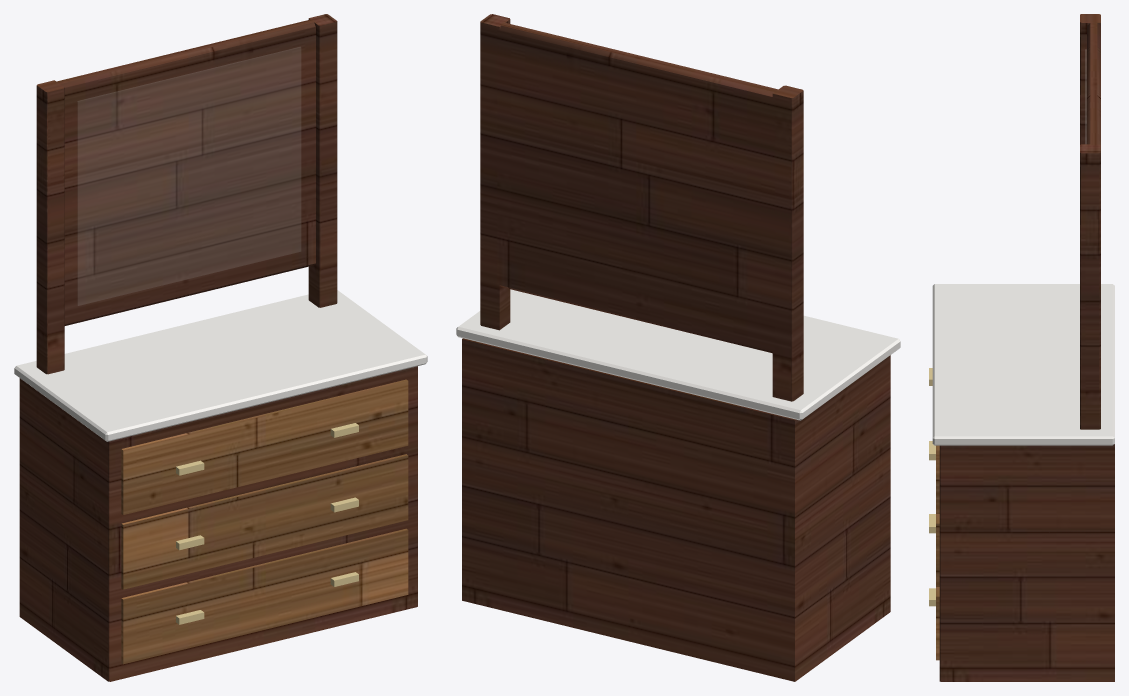
File: dresser.glb
3 renders of one model, left to right at view 1: azimuth 30°, elevation 25°; view 2: azimuth 150°, elevation 25°; view 3: azimuth 270°, elevation 25°, orthographic. The views are drawn at different scales.
Parts seen in each view (by area): view 1: dresser_dkwood, dresser_oak, dresser_glass, dresser_marble_w, dresser_brass; view 2: dresser_dkwood, dresser_marble_w; view 3: dresser_dkwood, dresser_marble_w, dresser_oak, dresser_brass.
Boxes of the visible parts, box(x1,y1,x2,y2) form: dresser_dkwood: box(19, 14, 417, 681); dresser_oak: box(121, 379, 408, 664); dresser_glass: box(78, 47, 300, 305); dresser_marble_w: box(14, 290, 427, 441); dresser_brass: box(176, 423, 358, 624); dresser_dkwood: box(462, 14, 890, 681); dresser_marble_w: box(456, 289, 900, 420); dresser_dkwood: box(939, 14, 1114, 681); dresser_marble_w: box(932, 284, 1114, 445); dresser_oak: box(936, 445, 939, 660); dresser_brass: box(929, 368, 935, 606).
Bounding box in the file's own units: 1.04 × 1.65 × 0.53.
5 materials, 2 textured.
